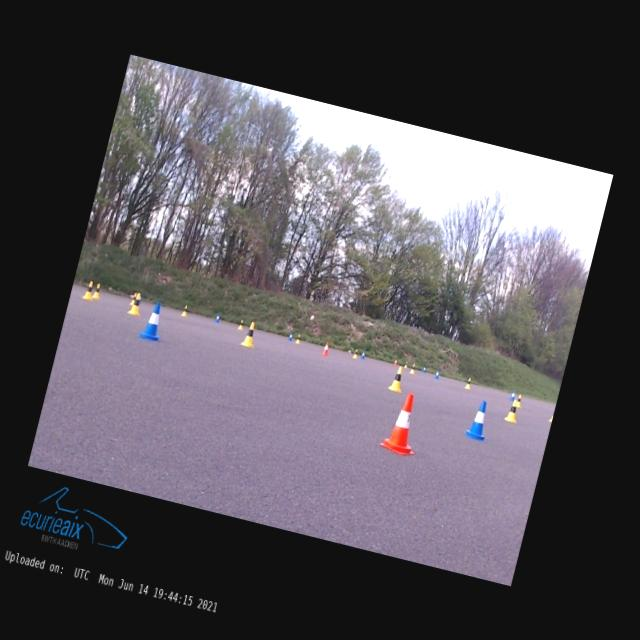blue_cone: (138, 299, 168, 343), (463, 398, 492, 440), (214, 312, 220, 322), (510, 390, 516, 400), (434, 370, 440, 378), (360, 351, 366, 358), (288, 332, 292, 340), (422, 366, 426, 372)
orange_cone: (378, 389, 428, 457), (320, 340, 330, 355), (392, 358, 398, 366)
yellow_cone: (388, 365, 407, 392), (240, 320, 258, 348), (504, 398, 521, 423), (128, 292, 144, 316), (82, 280, 95, 299), (92, 282, 102, 298), (180, 302, 189, 316), (464, 376, 472, 388), (129, 292, 136, 304), (516, 394, 522, 407), (548, 408, 554, 421), (238, 319, 245, 329), (295, 333, 301, 343), (352, 348, 358, 358), (410, 364, 416, 374), (403, 360, 408, 368)
